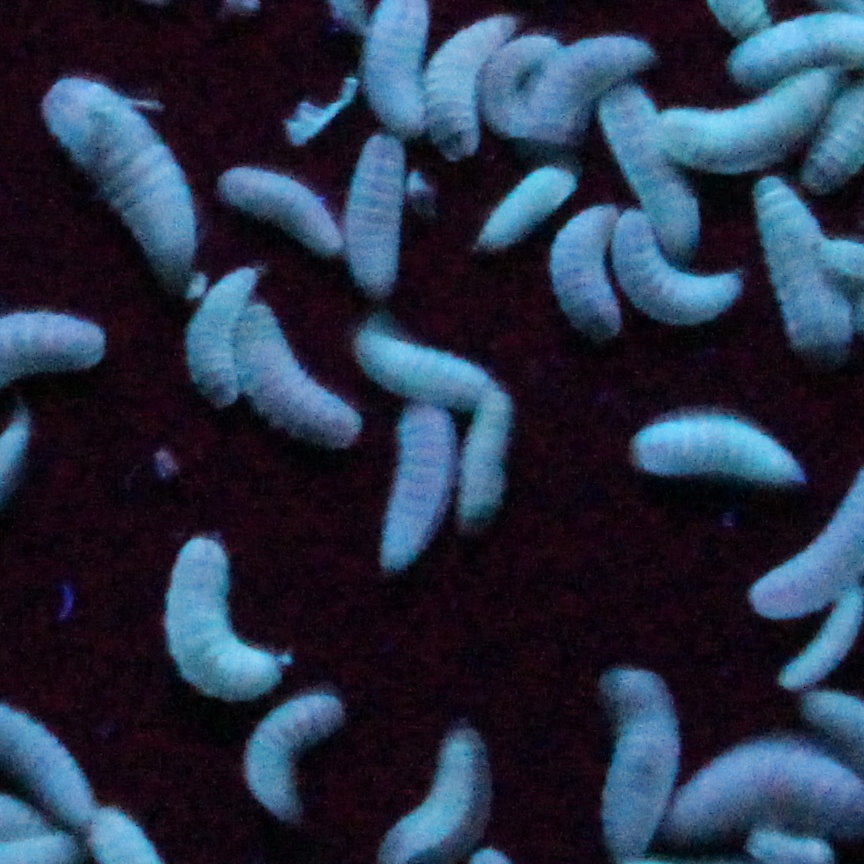larve: (35, 71, 214, 264), (753, 173, 862, 369), (594, 80, 707, 262), (167, 526, 280, 707), (621, 401, 817, 501), (607, 207, 744, 332), (598, 664, 680, 862), (657, 76, 823, 169), (239, 694, 357, 821), (414, 21, 521, 160), (528, 39, 671, 142), (380, 719, 478, 864), (553, 192, 637, 337), (187, 255, 262, 414), (385, 405, 453, 578), (357, 326, 501, 405), (223, 162, 346, 253), (344, 126, 405, 296), (476, 32, 562, 151), (473, 167, 578, 253), (778, 589, 862, 694), (464, 382, 517, 514)
